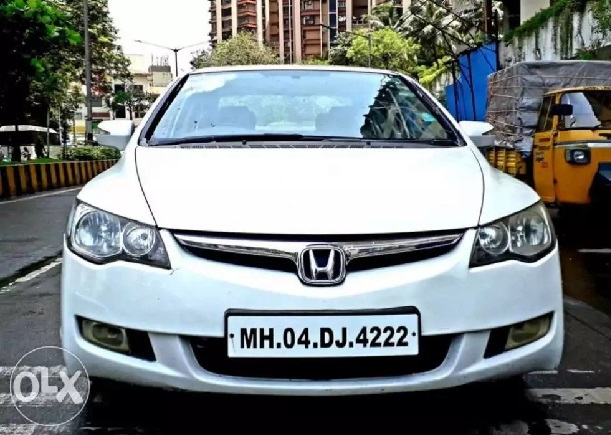licenseplate: (225, 308, 422, 360)
